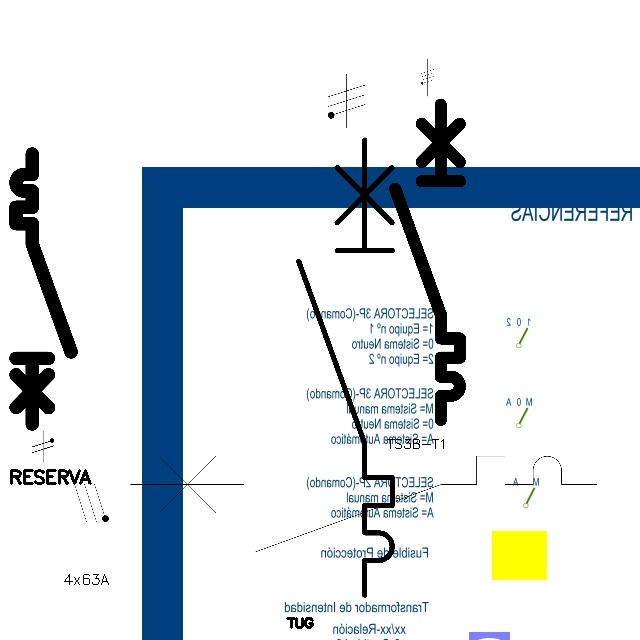interruptor_termomagnetico: (118, 444, 609, 564), (287, 128, 404, 606), (387, 96, 468, 427), (9, 147, 78, 431)
